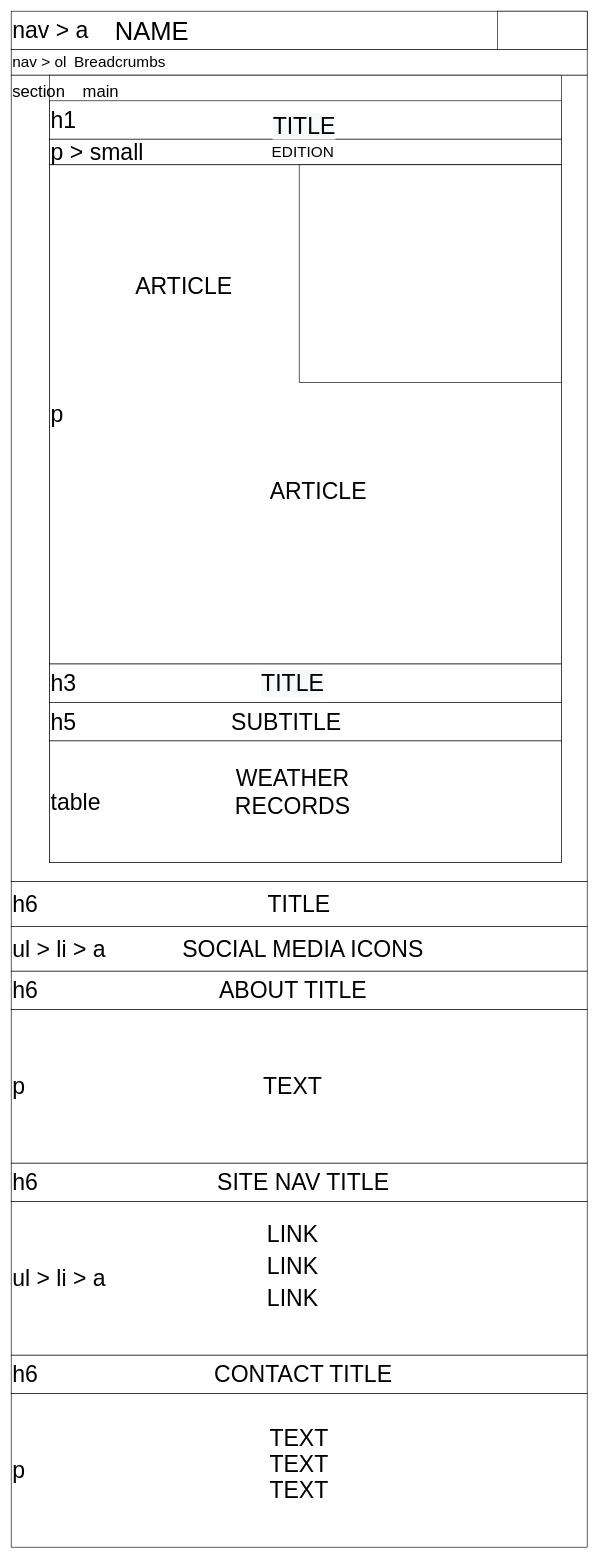
This 598x1558 diagram has some shape labels left out. Each missing label, with the centre of its shape:
button .navbar-toggler: point (542, 30)
IMG: point (430, 273)
